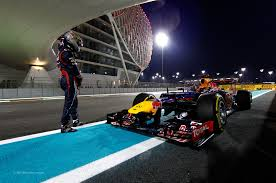FormulaOneCar: (103, 74, 261, 152)
